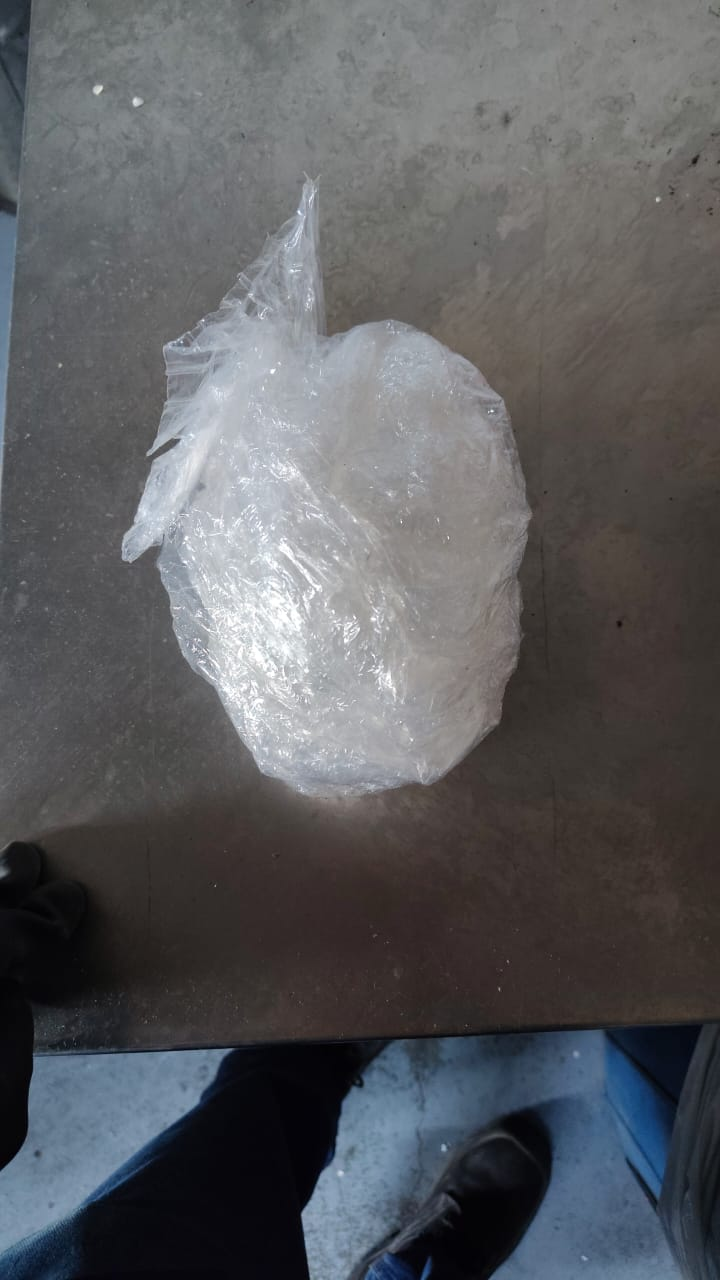Plastico: (118, 180, 532, 803)
